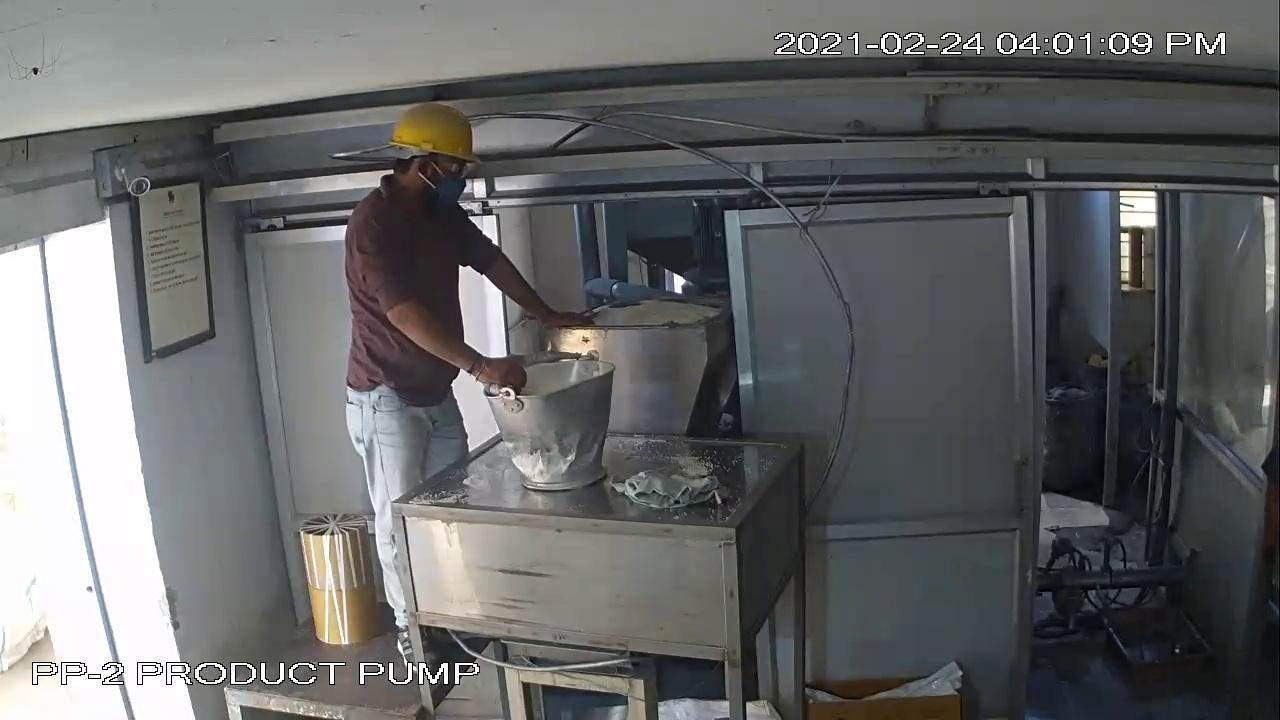helmet: (379, 101, 490, 167)
